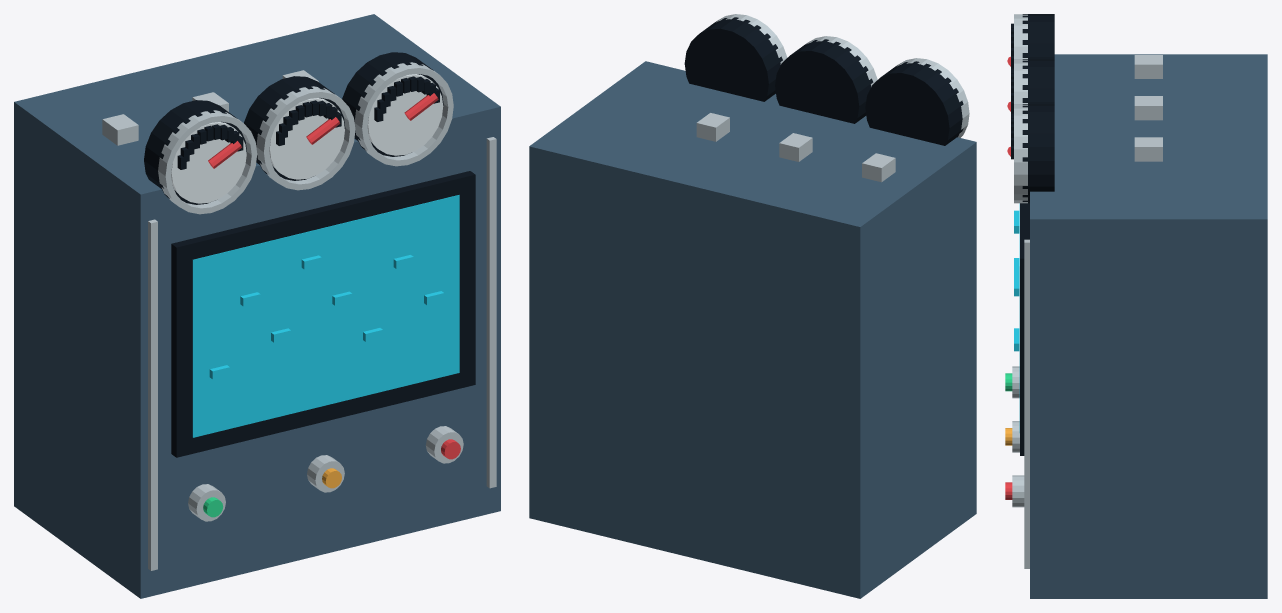
File: 60_L78_PrecisionChamberPressureGauge.fbx
The picture shows the model from 3 angles, left to right: view 1: azimuth 30°, elevation 25°; view 2: azimuth 150°, elevation 25°; view 3: azimuth 270°, elevation 25°; orthographic projection. The views are drawn at different scales.
Parts seen in each view (by area): view 1: PrecisionChamberPressureGauge; view 2: PrecisionChamberPressureGauge; view 3: PrecisionChamberPressureGauge.
Boxes of the visible parts, x1,y1,x2,y2 form: PrecisionChamberPressureGauge: (14, 14, 500, 598); PrecisionChamberPressureGauge: (529, 14, 976, 598); PrecisionChamberPressureGauge: (1005, 14, 1267, 598).
Bounding box in the file's own units: 110 × 138 × 73.93.
